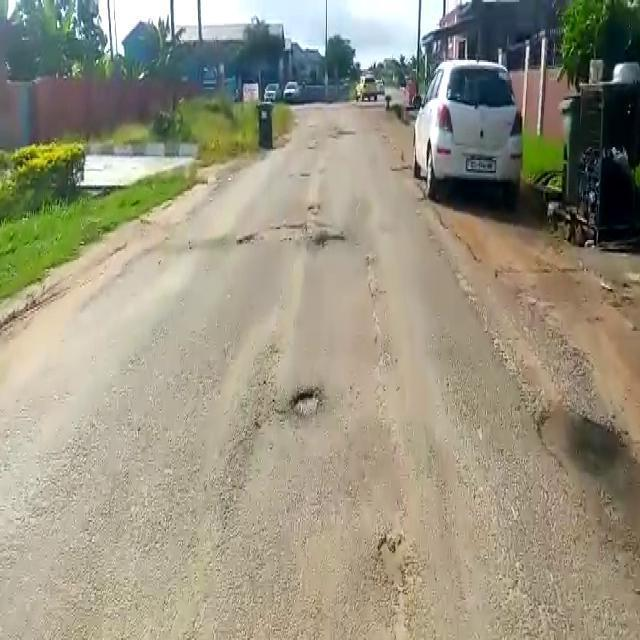pothole: (234, 222, 309, 246), (283, 388, 326, 421), (312, 229, 349, 249)
